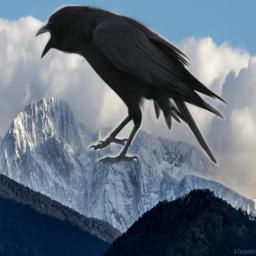Crow: (34, 4, 227, 166)
